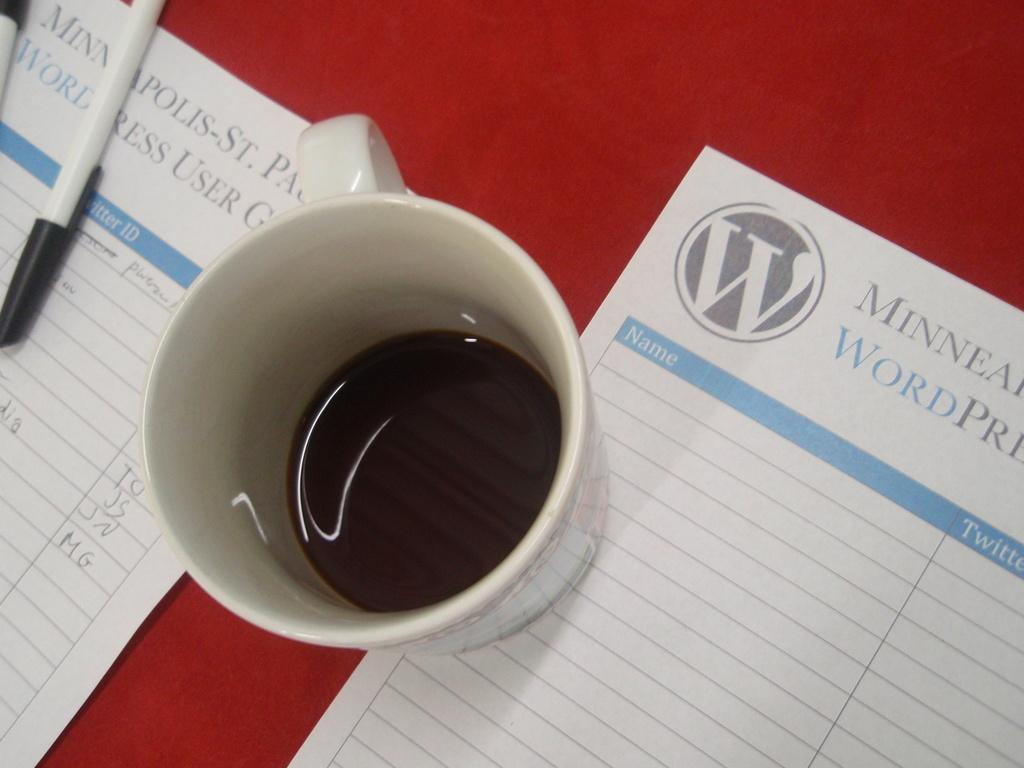pen: (0, 0, 173, 352), (0, 13, 24, 97)
